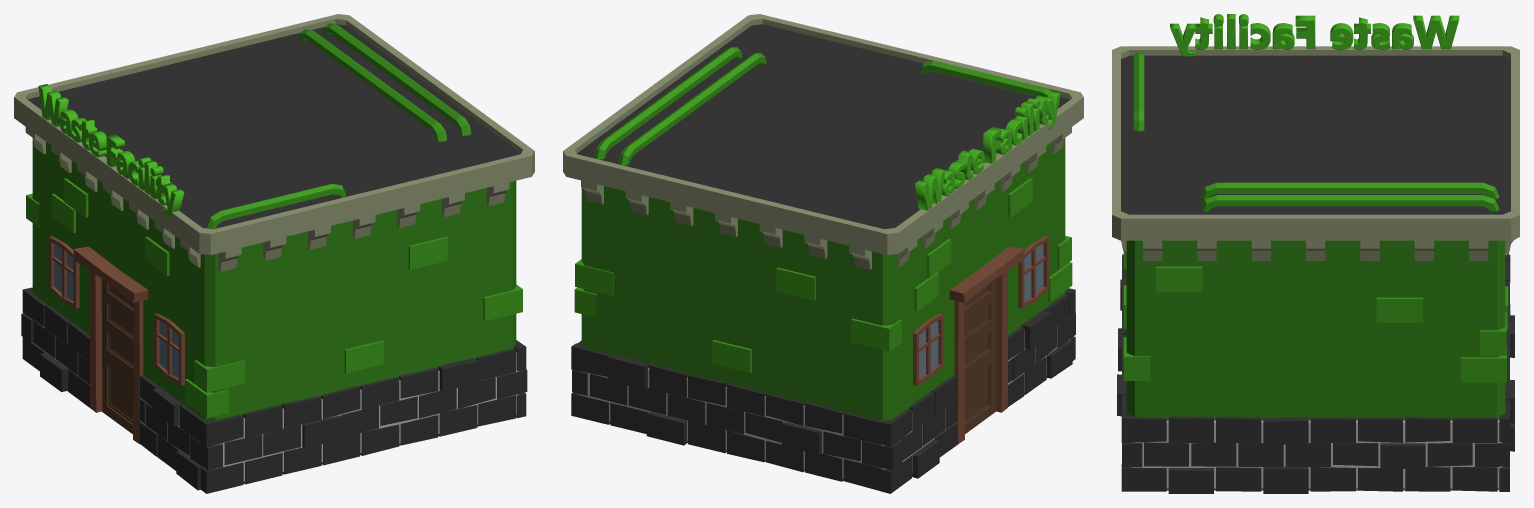
File: Solidwaste.fbx
3 views of the same model, side by side, from view 1: azimuth 30°, elevation 25°; view 2: azimuth 150°, elevation 25°; view 3: azimuth 270°, elevation 25° (orthographic). The views are drawn at different scales.
Visible parts, largest first — view 1: 1Story_Mat_Cube.040, Text.020; view 2: 1Story_Mat_Cube.040, Text.020; view 3: 1Story_Mat_Cube.040, Text.020.
Part boxes in pixels (<box>): 1Story_Mat_Cube.040: <box>14,14,534,493</box>; Text.020: <box>38,84,184,217</box>; 1Story_Mat_Cube.040: <box>563,14,1083,493</box>; Text.020: <box>915,90,1060,210</box>; 1Story_Mat_Cube.040: <box>1112,46,1519,493</box>; Text.020: <box>1170,14,1459,56</box>.
Bounding box in the file's own units: 435 × 362 × 431.
